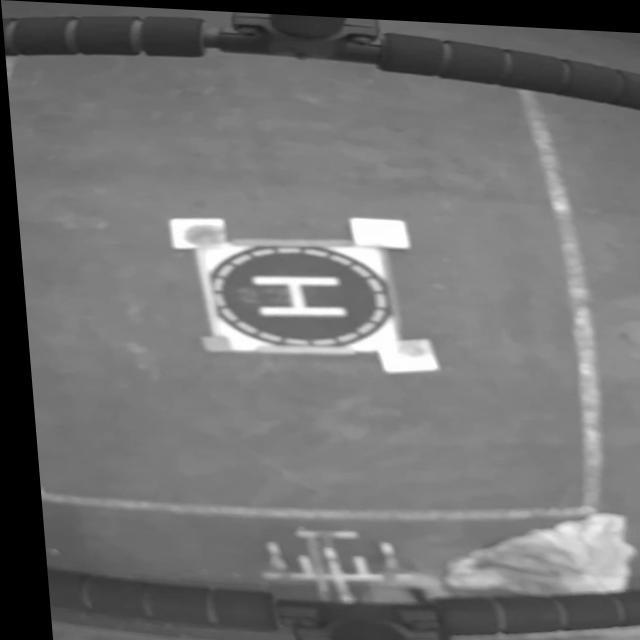Helipad: (246, 272, 341, 316)
